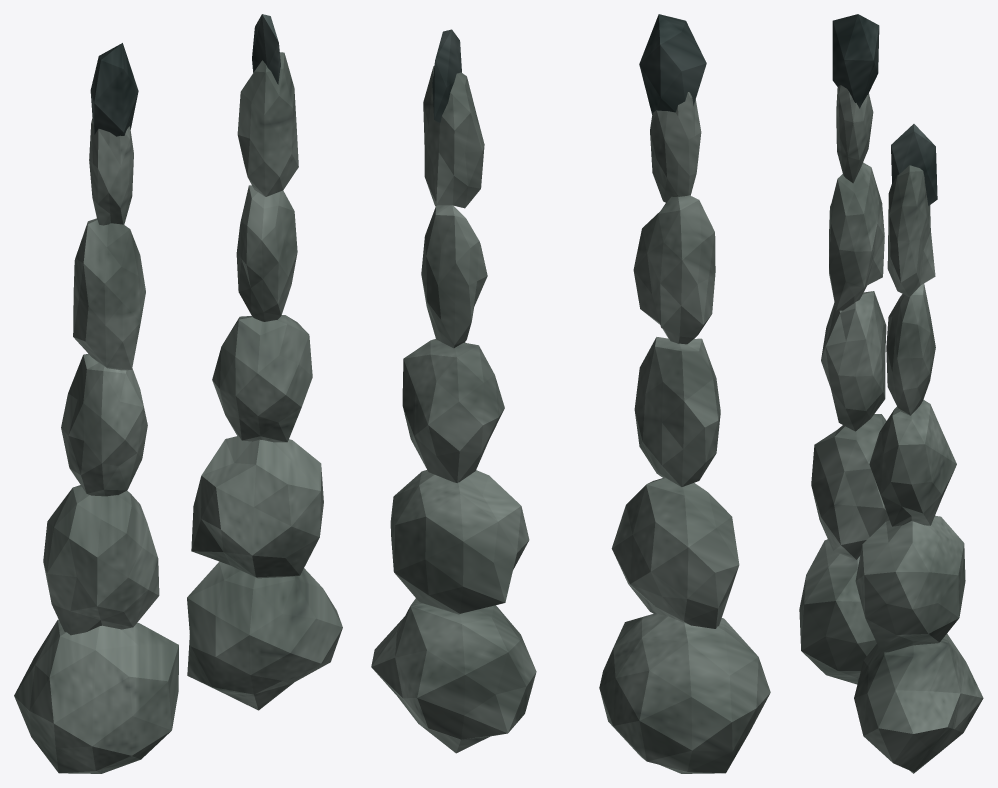
File: 0059_rock_spire_09.glb
3 views of the same model, side by side, from view 1: azimuth 30°, elevation 25°; view 2: azimuth 150°, elevation 25°; view 3: azimuth 270°, elevation 25° (orthographic). The views are drawn at different scales.
Parts seen in each view (by area): view 1: stone, stone_dark; view 2: stone, stone_dark; view 3: stone, stone_dark.
Part boxes in pixels (x1,y1,x2,y2): stone: (14, 52, 342, 773); stone_dark: (90, 14, 280, 136); stone: (371, 66, 770, 773); stone_dark: (432, 14, 706, 122); stone: (799, 85, 983, 773); stone_dark: (832, 14, 937, 205).
Size of the model in its own units: 1.63 by 3.37 by 0.8229.
Materials: 2 (2 with a texture image).
